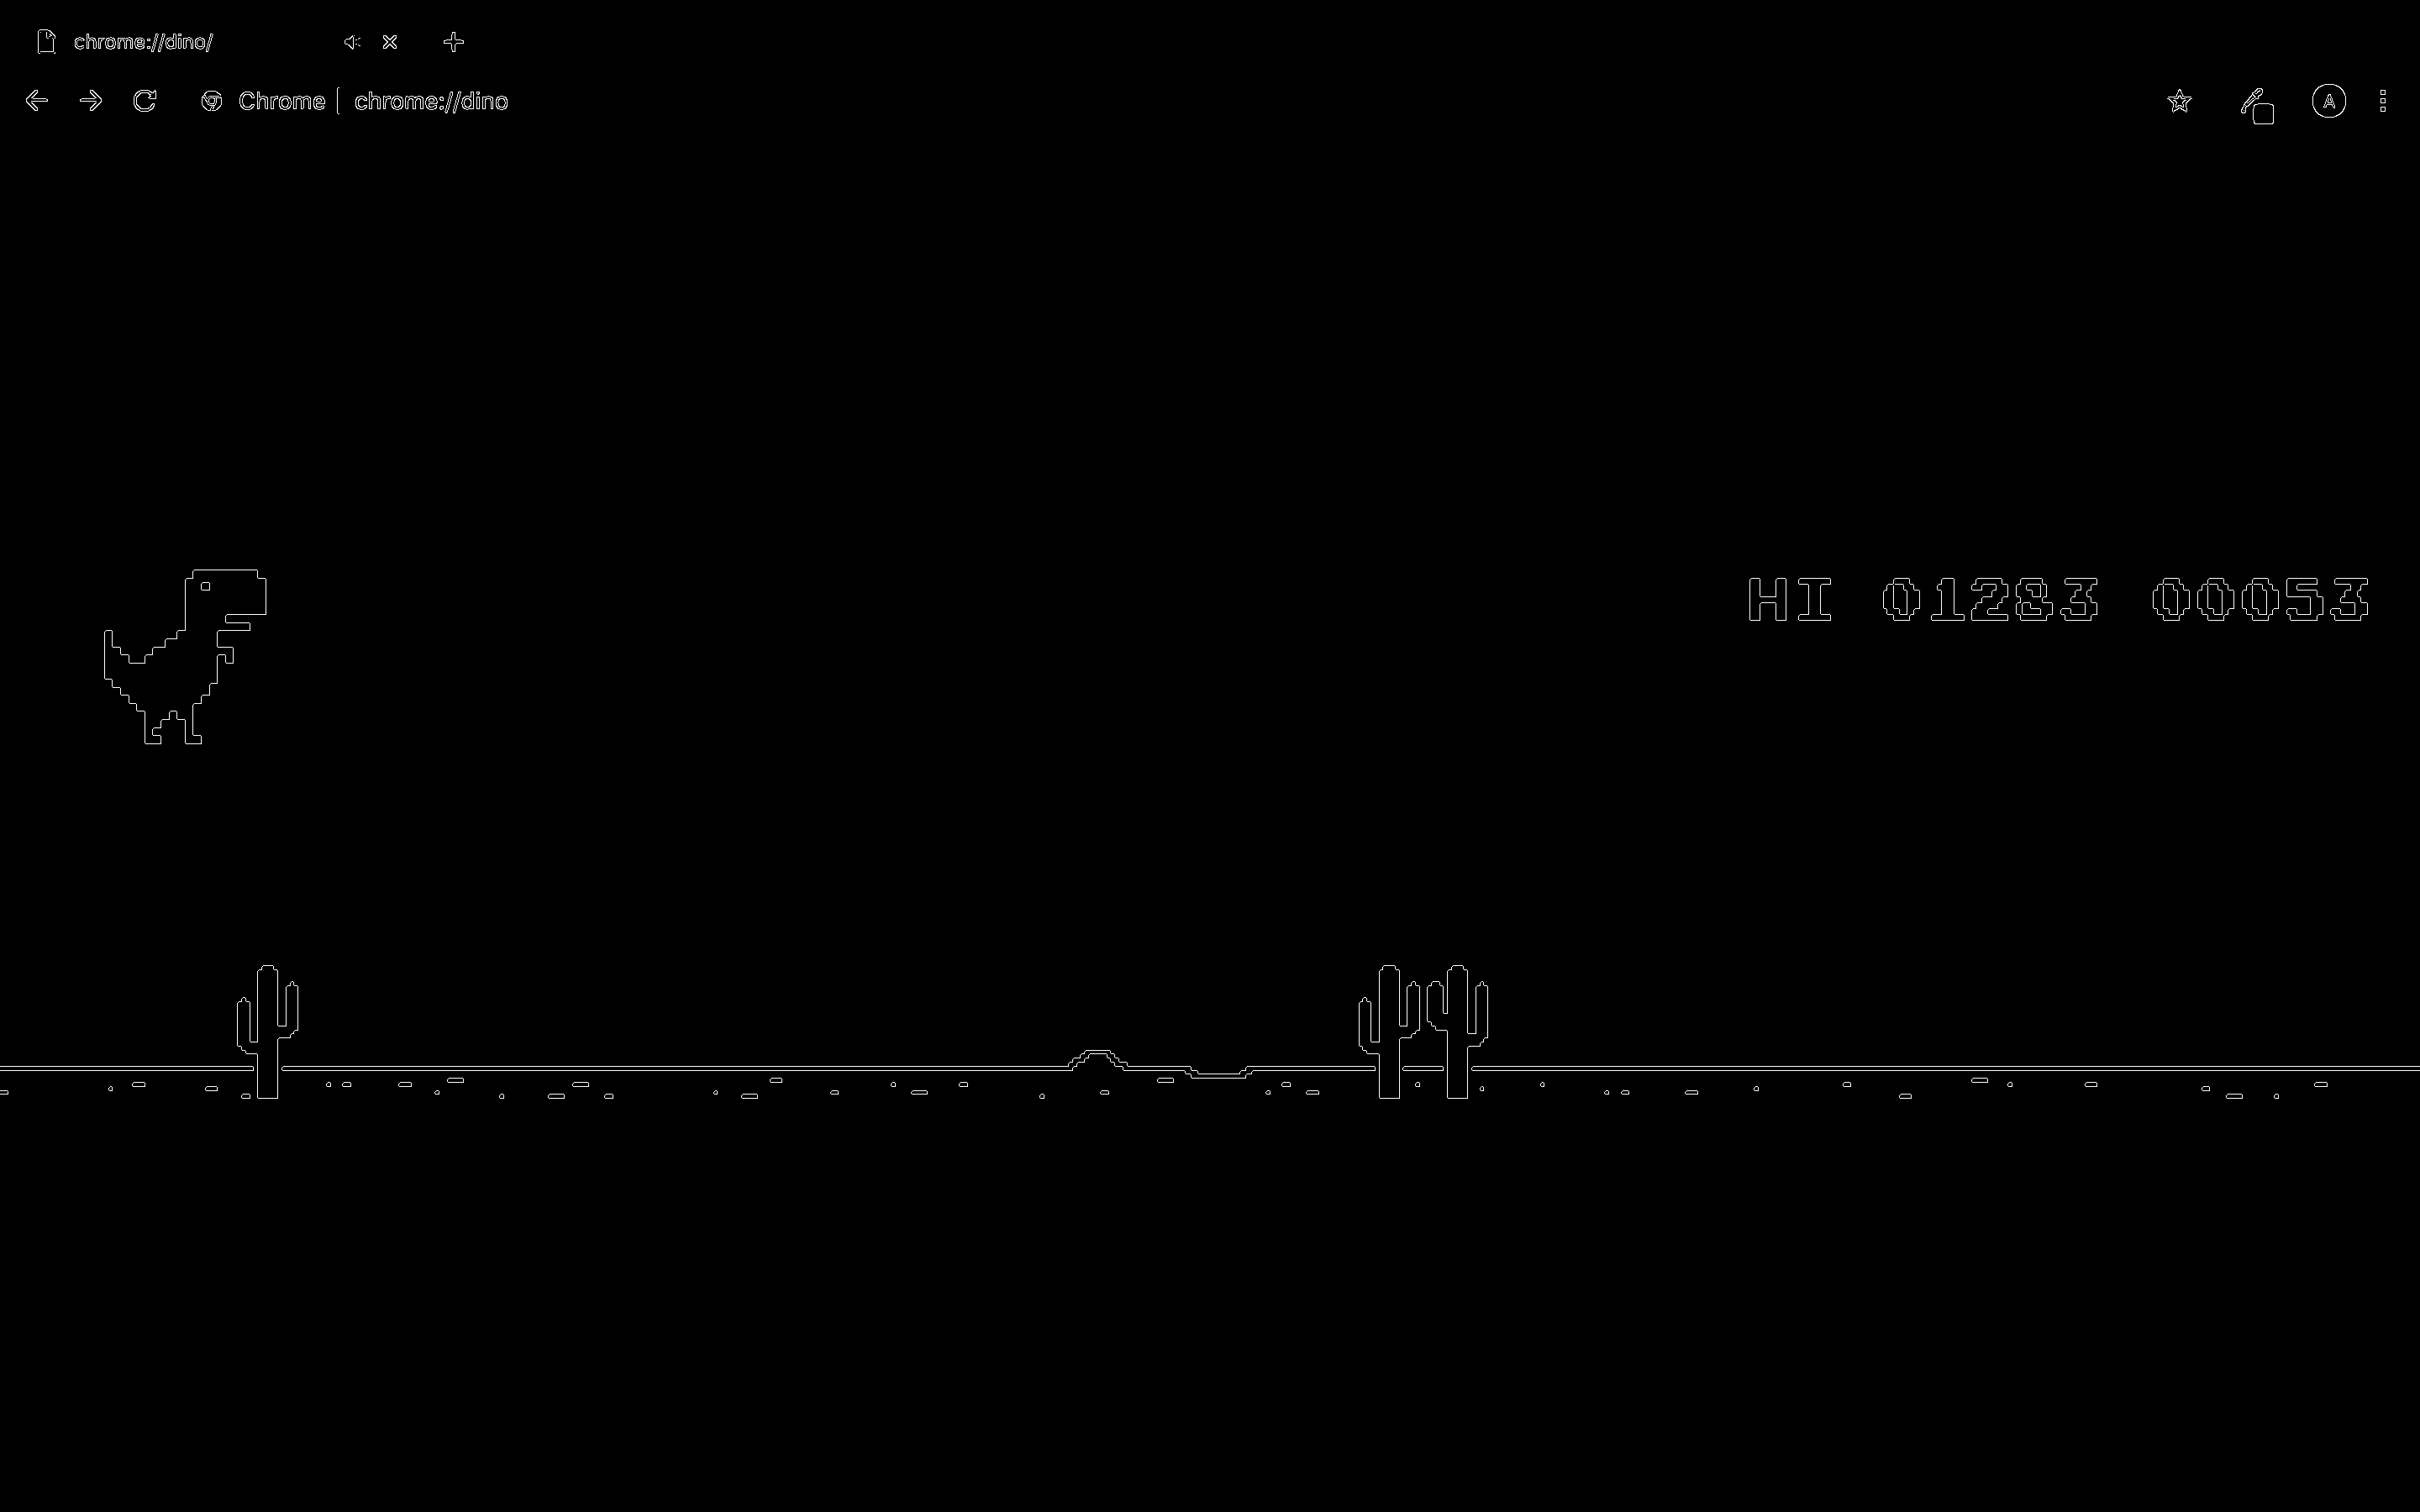Cactus: (1427, 967, 1511, 1104), (1352, 963, 1429, 1104), (235, 965, 310, 1103)
Dino: (98, 568, 272, 746)
